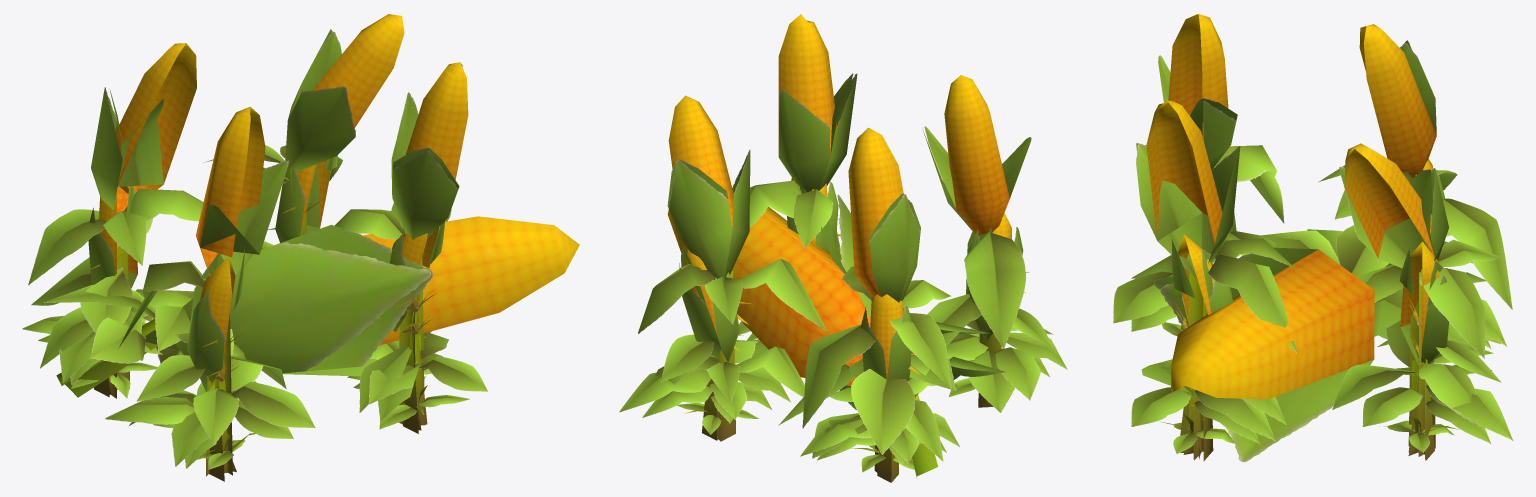
Rendered from Corn_Stages.fbx.
3 views of the same model, side by side, from view 1: azimuth 30°, elevation 25°; view 2: azimuth 150°, elevation 25°; view 3: azimuth 270°, elevation 25° (orthographic). The views are drawn at different scales.
Visible parts, largest first — view 1: Corn, Corn_Prized; view 2: Corn, Corn_Prized; view 3: Corn, Corn_Prized.
Boxes of the visible parts, <box> form: Corn: <box>22,14,487,481</box>; Corn_Prized: <box>43,216,579,397</box>; Corn: <box>619,14,1067,482</box>; Corn_Prized: <box>667,194,1006,477</box>; Corn: <box>1113,14,1513,461</box>; Corn_Prized: <box>1154,225,1469,462</box>.
Size of the model in its own units: 221 by 176 by 180.
